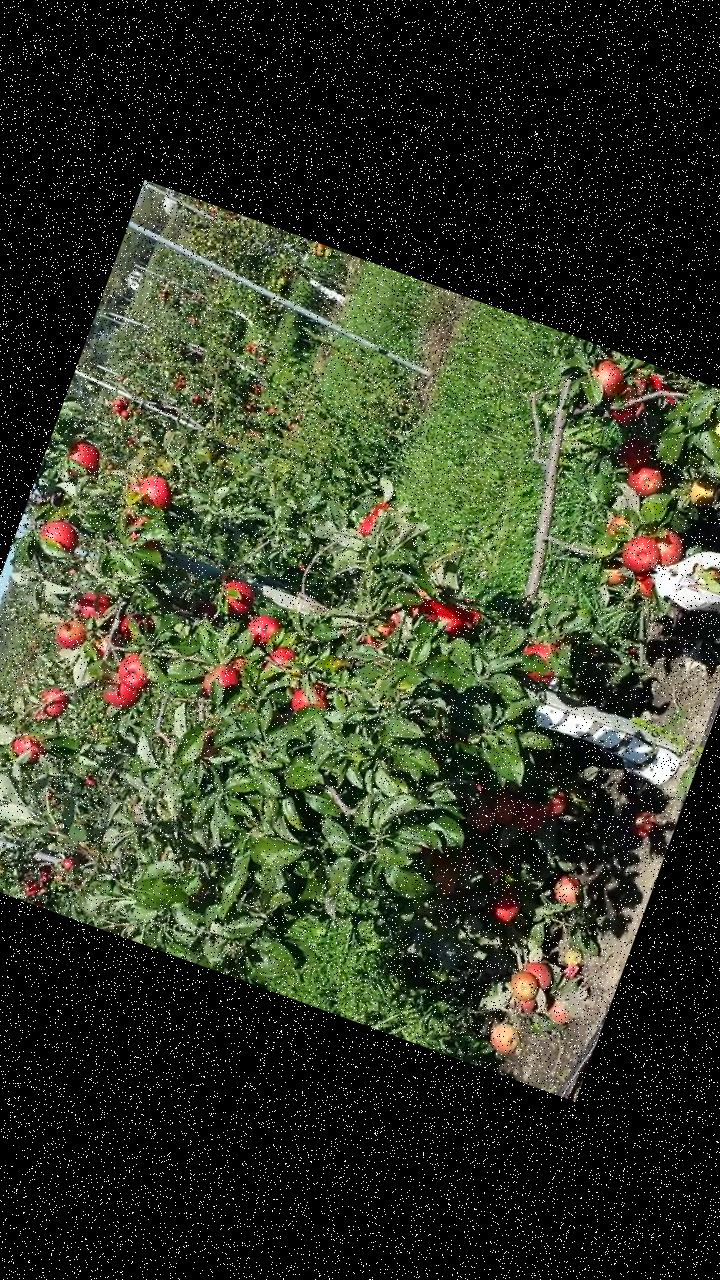Apple: (514, 632, 566, 685), (616, 526, 664, 578), (414, 594, 471, 637), (286, 674, 336, 722), (59, 435, 108, 483), (197, 659, 245, 706), (644, 524, 691, 572), (112, 644, 158, 691), (584, 354, 630, 400), (124, 508, 172, 552), (214, 574, 258, 620), (620, 456, 667, 499), (38, 513, 84, 555), (241, 608, 284, 652), (98, 674, 145, 714), (133, 469, 176, 511), (613, 429, 653, 472), (113, 605, 154, 646), (358, 612, 398, 654), (74, 586, 113, 624), (485, 860, 522, 900), (52, 614, 90, 652), (685, 473, 719, 515), (604, 392, 644, 426), (264, 640, 298, 679), (617, 366, 651, 404), (536, 784, 570, 822), (487, 785, 520, 824), (10, 730, 46, 764), (487, 890, 523, 924), (426, 861, 460, 896), (36, 684, 70, 718), (600, 556, 632, 592), (90, 628, 122, 663), (512, 797, 544, 831), (467, 798, 498, 831), (197, 725, 226, 759), (192, 596, 224, 624), (630, 570, 658, 598), (605, 511, 630, 538), (458, 604, 484, 629), (223, 652, 247, 678)
